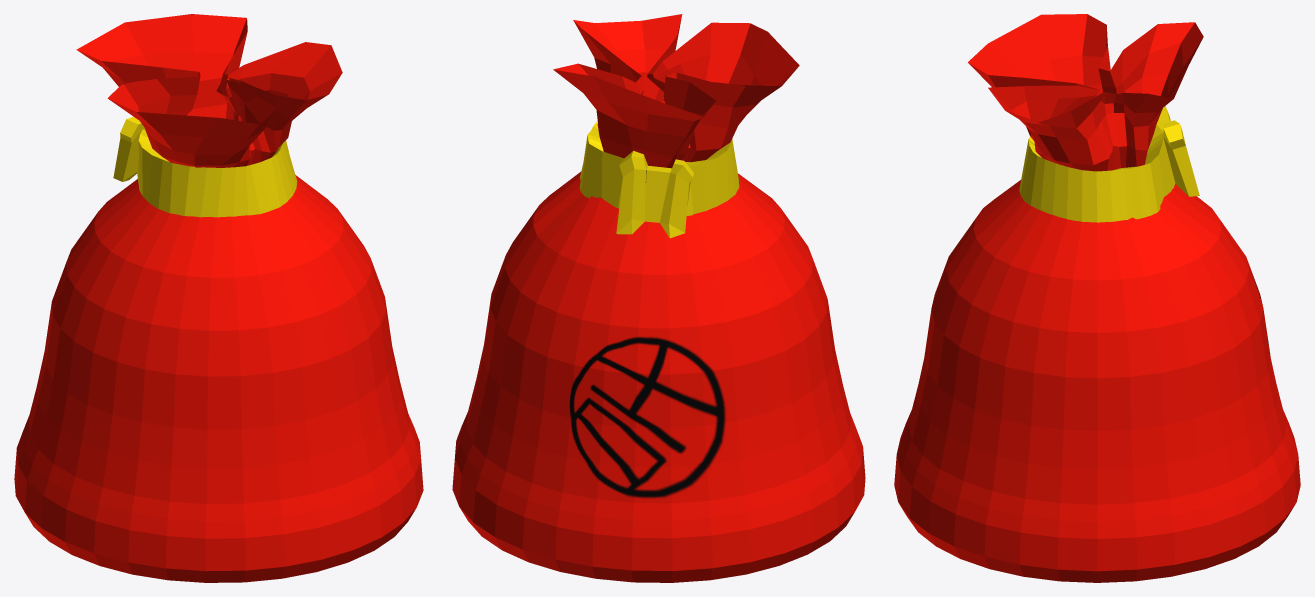
The model's file is BigBag.fbx.
3 views of the same model, side by side, from view 1: azimuth 30°, elevation 25°; view 2: azimuth 150°, elevation 25°; view 3: azimuth 270°, elevation 25° (orthographic).
Visible parts, largest first — view 1: Sphere; view 2: Sphere; view 3: Sphere.
Part boxes in pixels (<box>): Sphere: <box>14,14,423,582</box>; Sphere: <box>452,14,865,582</box>; Sphere: <box>894,14,1300,582</box>.
Bounding box in the file's own units: 255 × 318 × 255.
